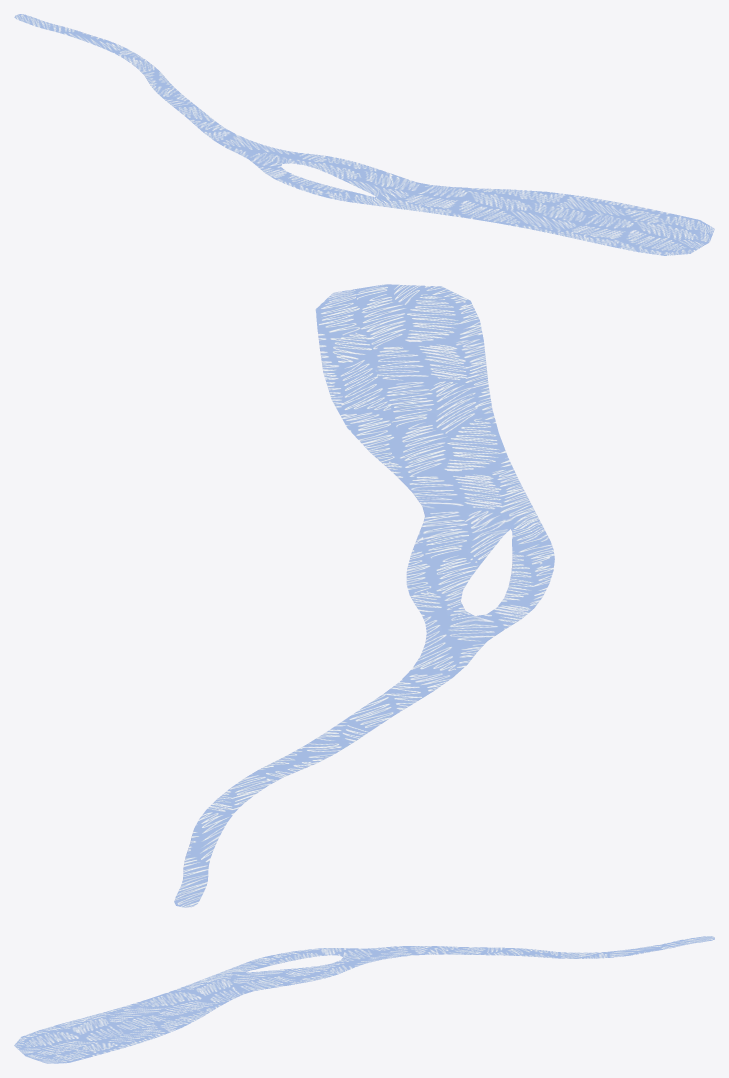
The model's file is Riviere_2024.glb.
3 renders of one model, top to bottom at view 1: azimuth 30°, elevation 25°; view 2: azimuth 150°, elevation 25°; view 3: azimuth 270°, elevation 25°, orthographic. The views are drawn at different scales.
Parts seen in each view (by area): view 1: Rivière2024; view 2: Rivière2024; view 3: Rivière2024.
Boxes of the visible parts, left/top/right/bottom form: Rivière2024: left=14, top=14, right=714, bottom=255; Rivière2024: left=174, top=284, right=554, bottom=907; Rivière2024: left=14, top=936, right=714, bottom=1063.
Size of the model in its own units: 35.4 by 3.81e-06 by 81.94.
1 material, 1 textured.
